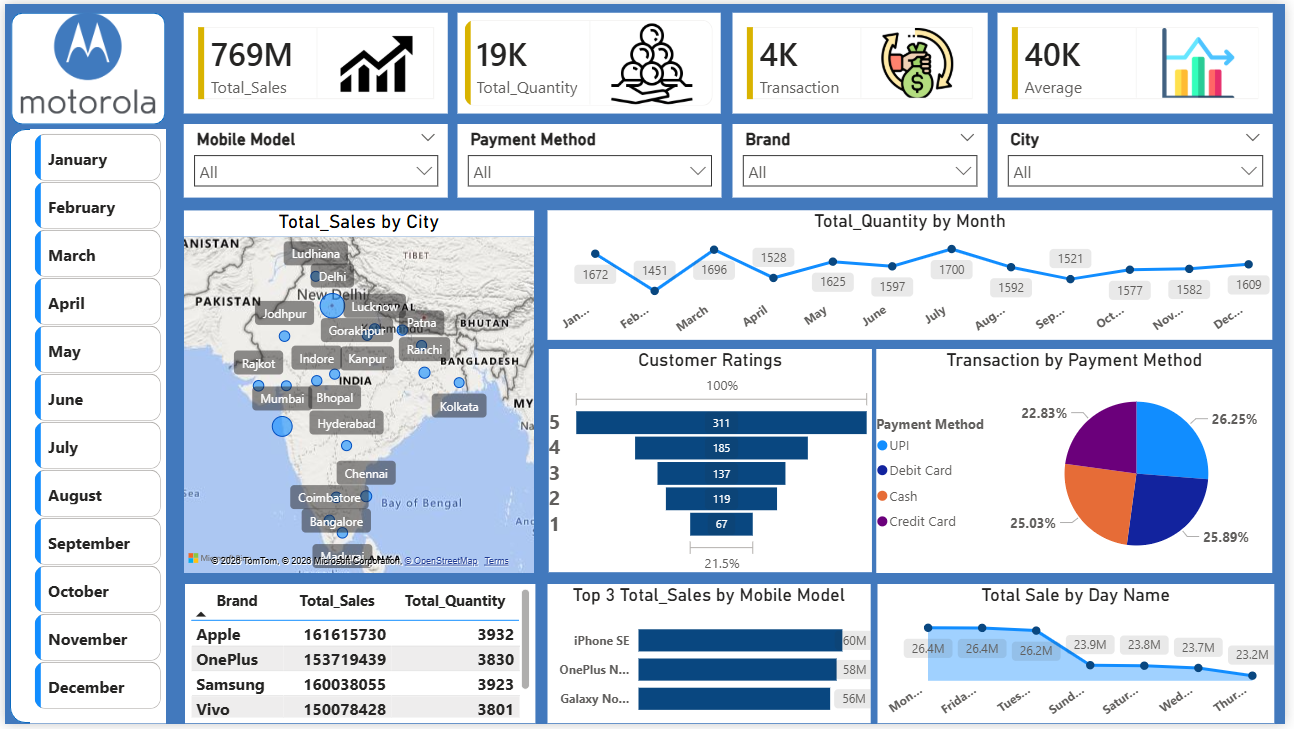

This screenshot's page, from the dashboard's own definition file:
{"tool":"powerbi","page":{"name":"Page 1","canvas":[1280,720],"ordinal":0},"visuals":[{"type":"shape","box":[6.8,8.2,154,111.7],"z":0},{"type":"shape","box":[5.5,125.4,155.3,594.1],"z":1000},{"type":"image","box":[15,8.2,136.3,100.8],"z":2000},{"type":"advancedSlicerVisual","fields":{"Values":["Sales_Data.Date.Variation.Date Hierarchy.Month"]},"box":[24.5,125.4,136.3,594.1],"z":3000},{"type":"cardVisual","fields":{"Data":["Sales_Data.Total_Sales"]},"box":[178.5,8.2,264.3,100.8],"z":4000},{"type":"cardVisual","fields":{"Data":["Sales_Data.Total_Quantity"]},"box":[452.4,8.2,263,100.8],"z":5000},{"type":"cardVisual","fields":{"Data":["Sales_Data.Transaction"]},"box":[727.6,8.2,254.8,100.8],"z":6000},{"type":"cardVisual","fields":{"Data":["Sales_Data.Average"]},"box":[992,8.2,275.2,100.8],"z":7000},{"type":"map","fields":{"Category":["Sales_Data.City"],"Size":["Sales_Data.Total_Sales"]},"box":[178.5,205.8,350.2,362.4],"z":8000},{"type":"lineChart","fields":{"Category":["Sales_Data.Date.Variation.Date Hierarchy.Month","Sales_Data.Date.Variation.Date Hierarchy.Day"],"Y":["Sales_Data.Total_Quantity"]},"box":[542.3,205.8,724.9,129.4],"z":9000},{"type":"barChart","title":"Top 3 Total_Sales by Mobile Model","fields":{"Category":["Sales_Data.Mobile Model"],"Y":["Sales_Data.Total_Sales"]},"box":[542.3,580.5,322.9,139],"z":10000},{"type":"pieChart","fields":{"Category":["Sales_Data.Payment Method"],"Y":["Sales_Data.Transaction"]},"box":[871,345.2,396.4,223.8],"z":11000},{"type":"funnel","title":"Customer Ratings ","fields":{"Category":["Sales_Data.Customer Ratings"],"Y":["CountNonNull(Sales_Data.Customer Ratings)"]},"box":[543.7,344.7,322.9,223.5],"z":12000},{"type":"areaChart","title":"Total Sale by Day Name","fields":{"Category":["Sales_Data.Day Name"],"Y":["Sales_Data.Total_Sales"]},"box":[872.1,580.5,396.5,139],"z":13000},{"type":"tableEx","fields":{"Values":["Sales_Data.Brand","Sales_Data.Total_Sales","Sales_Data.Total_Quantity"]},"box":[179.9,580.5,350.2,139],"z":14000},{"type":"slicer","fields":{"Values":["Sales_Data.Mobile Model"]},"box":[178.5,119.9,264.3,73.6],"z":15000},{"type":"slicer","fields":{"Values":["Sales_Data.Payment Method"]},"box":[452.4,119.9,264.3,73.6],"z":16000},{"type":"slicer","fields":{"Values":["Sales_Data.Brand"]},"box":[727.6,119.9,254.8,73.6],"z":17000},{"type":"slicer","fields":{"Values":["Sales_Data.City"]},"box":[992,119.9,275.2,73.6],"z":18000}]}

Visuals, with their boxes in screenshot pixels (x1, y1, x2, y2), scaled from the page's 1280x720 canvas onto the 1294x729 screenshot:
shape: [7,8,163,121]
shape: [6,127,163,728]
image: [15,8,153,110]
advancedSlicerVisual - Sales_Data.Date.Variation.Date Hierarchy.Month: [25,127,163,728]
cardVisual - Sales_Data.Total_Sales: [180,8,448,110]
cardVisual - Sales_Data.Total_Quantity: [457,8,723,110]
cardVisual - Sales_Data.Transaction: [736,8,993,110]
cardVisual - Sales_Data.Average: [1003,8,1281,110]
map - Sales_Data.City x Sales_Data.Total_Sales: [180,208,534,575]
lineChart - Sales_Data.Date.Variation.Date Hierarchy.Month x Sales_Data.Date.Variation.Date Hierarchy.Day: [548,208,1281,339]
"Top 3 Total_Sales by Mobile Model" barChart: [548,588,875,728]
pieChart - Sales_Data.Payment Method x Sales_Data.Transaction: [881,350,1281,576]
"Customer Ratings " funnel: [550,349,876,575]
"Total Sale by Day Name" areaChart: [882,588,1282,728]
tableEx - Sales_Data.Brand x Sales_Data.Total_Sales: [182,588,536,728]
slicer - Sales_Data.Mobile Model: [180,121,448,196]
slicer - Sales_Data.Payment Method: [457,121,725,196]
slicer - Sales_Data.Brand: [736,121,993,196]
slicer - Sales_Data.City: [1003,121,1281,196]
